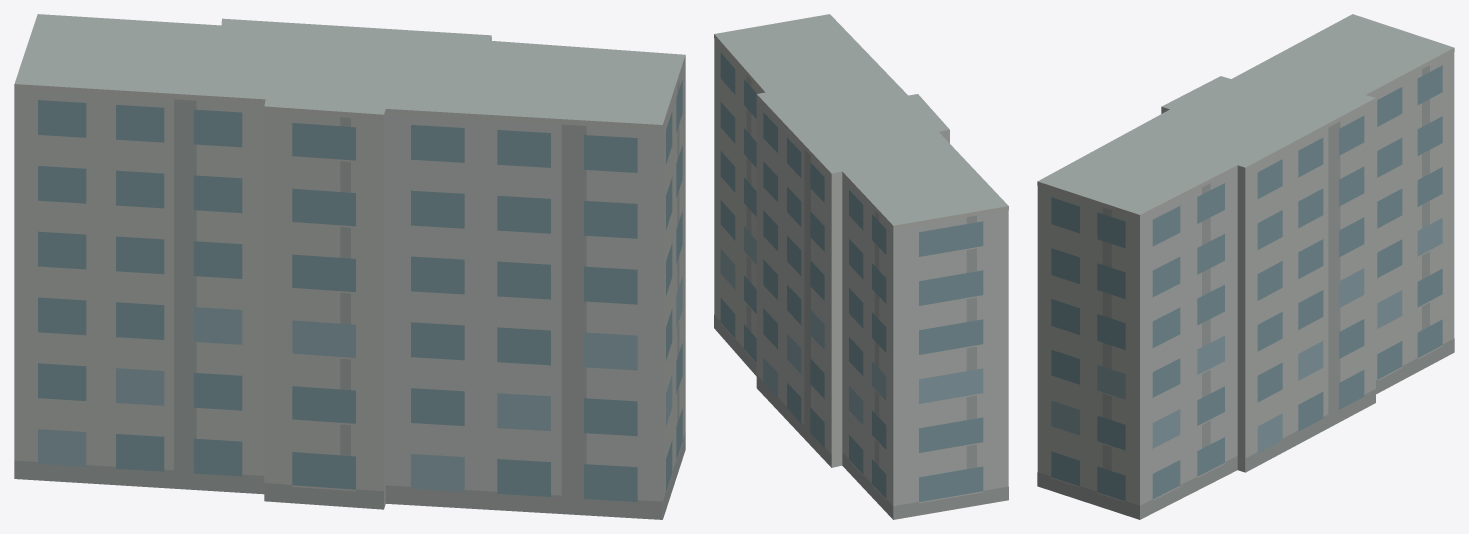
Rendered from survey-upis-32818356.glb.
The picture shows the model from 3 angles, left to right: view 1: azimuth 30°, elevation 25°; view 2: azimuth 150°, elevation 25°; view 3: azimuth 270°, elevation 25°; orthographic projection. The views are drawn at different scales.
Visible parts, largest first — view 1: survey-upis-32818356.tmp; view 2: survey-upis-32818356.tmp; view 3: survey-upis-32818356.tmp.
Boxes of the visible parts, x1,y1,x2,y2 form: survey-upis-32818356.tmp: (14, 14, 685, 519); survey-upis-32818356.tmp: (714, 14, 1008, 519); survey-upis-32818356.tmp: (1037, 14, 1454, 519).
Bounding box in the file's own units: 24.6 × 17.4 × 21.57.
